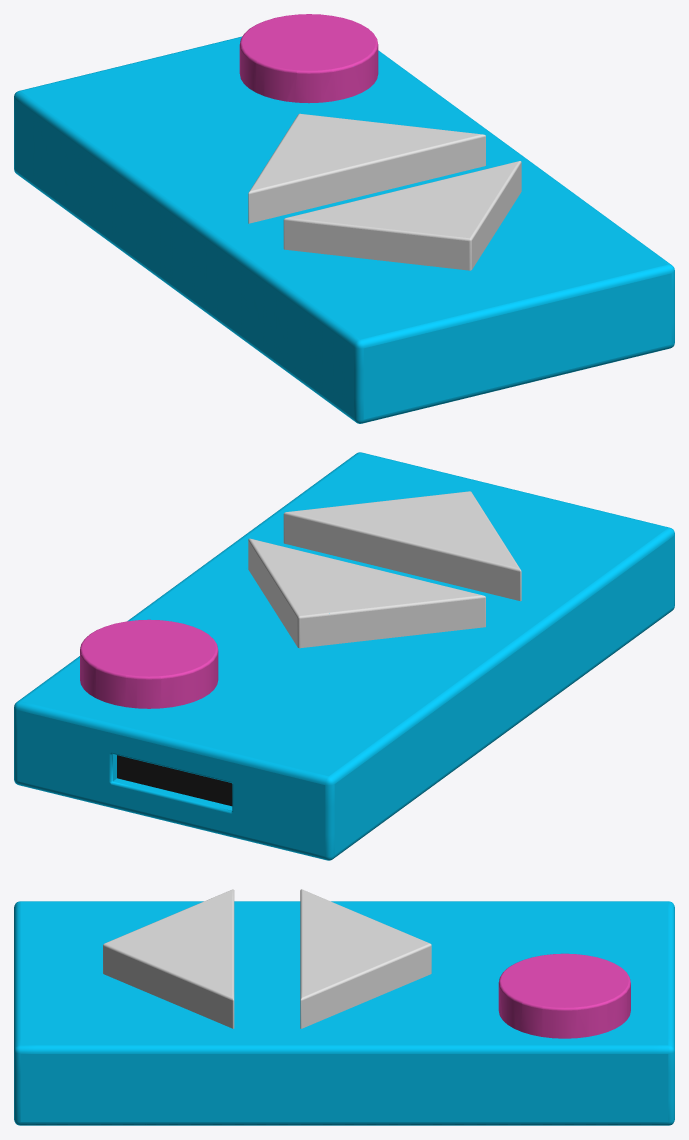
File: LoopDreams_VR_Assets_R4_TVRemote.fbx
The picture shows the model from 3 angles, top to bottom: view 1: azimuth 30°, elevation 25°; view 2: azimuth 150°, elevation 25°; view 3: azimuth 270°, elevation 25°; orthographic projection. The views are drawn at different scales.
Visible parts, largest first — view 1: Remote; view 2: Remote; view 3: Remote.
Part boxes in pixels (box(x1,y1,x2,y2)): Remote: box(14, 14, 674, 423); Remote: box(14, 452, 674, 860); Remote: box(14, 889, 674, 1125).
Size of the model in its own units: 160 by 55 by 300.
